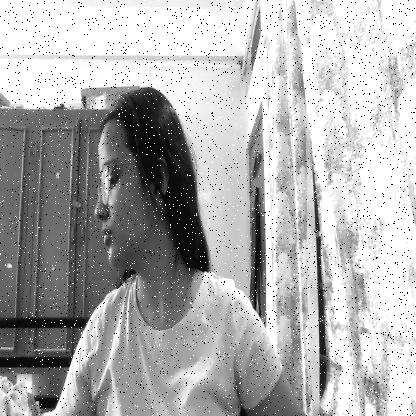Distracted: (92, 87, 180, 280)
